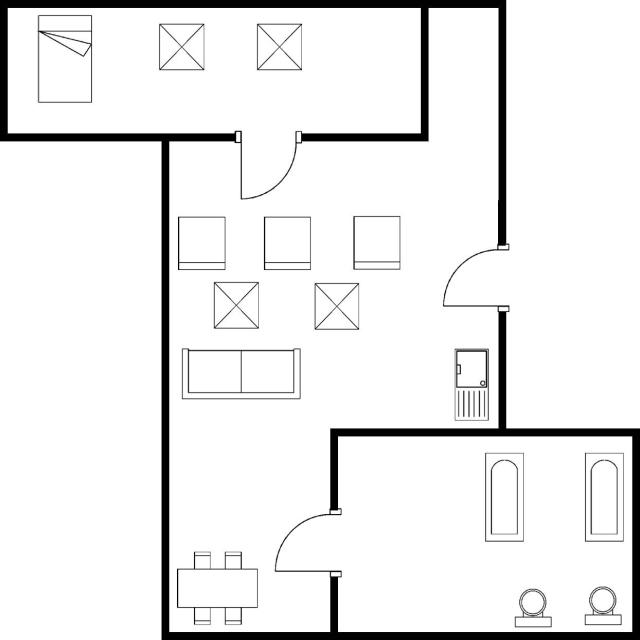bed: (33, 11, 96, 106)
coffee_table: (208, 276, 262, 334), (252, 18, 306, 75), (309, 280, 362, 334), (156, 18, 207, 74)
dining_table: (173, 546, 264, 628)
large_sink: (509, 584, 556, 630), (580, 583, 628, 628)
large_sofa: (176, 344, 306, 404)
sink: (450, 345, 492, 424)
small_sofa: (258, 212, 316, 275), (173, 213, 229, 276), (349, 212, 403, 273)
tub: (578, 447, 628, 547), (481, 448, 527, 546)
